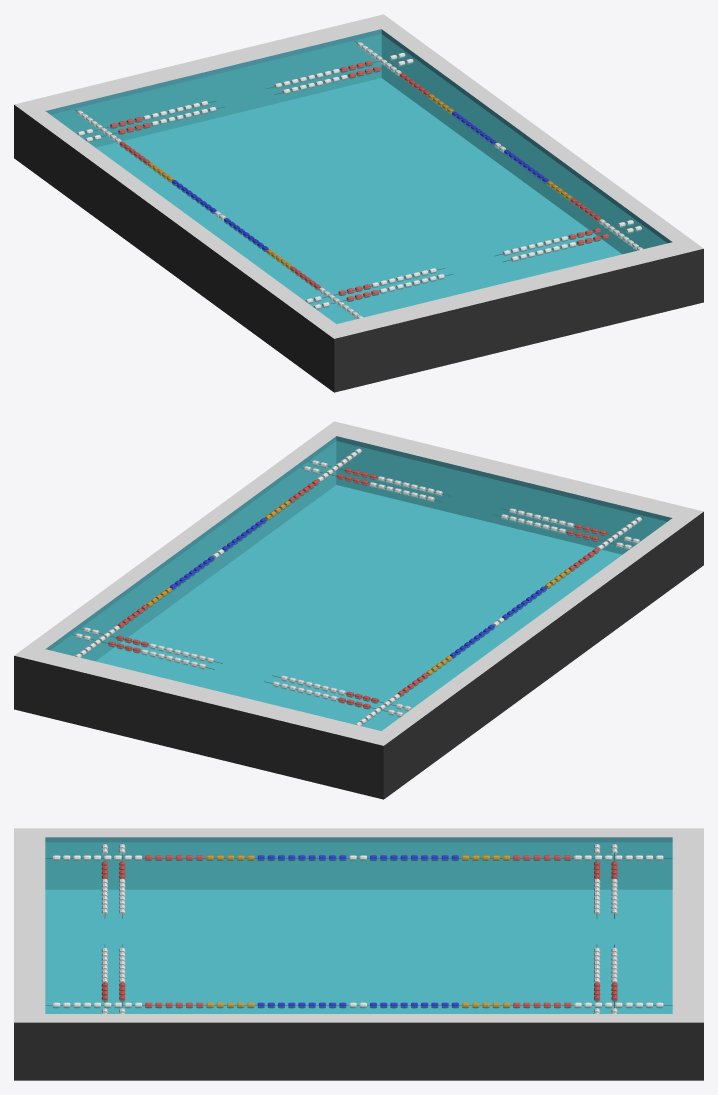
Rendered from Water Polo.fbx.
3 views of the same model, one above another, from view 1: azimuth 30°, elevation 25°; view 2: azimuth 150°, elevation 25°; view 3: azimuth 270°, elevation 25° (orthographic). The views are drawn at different scales.
Visible parts, largest first — view 1: Water Polo Pool, Water, Rope 1, Rope 2, Rope 5, Rope 3, Rope 4, Rope 6; view 2: Water Polo Pool, Water, Rope 2, Rope 1, Rope 5, Rope 6, Rope 3, Rope 4; view 3: Water Polo Pool, Water, Rope 2, Rope 1, Rope 4, Rope 5, Rope 3, Rope 6.
Boxes of the visible parts, x1,y1,x2,y2 form: Water Polo Pool: [14, 14, 703, 392]; Water: [51, 34, 666, 323]; Rope 1: [74, 109, 362, 318]; Rope 2: [354, 41, 642, 250]; Rope 5: [77, 53, 408, 136]; Rope 3: [313, 226, 644, 309]; Rope 4: [305, 220, 636, 303]; Rope 6: [85, 59, 415, 142]; Water Polo Pool: [14, 421, 703, 799]; Water: [51, 441, 666, 730]; Rope 2: [75, 448, 363, 657]; Rope 1: [355, 516, 643, 725]; Rope 5: [72, 633, 403, 717]; Rope 6: [81, 627, 411, 711]; Rope 3: [309, 460, 640, 544]; Rope 4: [301, 466, 631, 549]; Water Polo Pool: [14, 828, 703, 1080]; Water: [45, 842, 672, 1013]; Rope 2: [45, 1002, 672, 1008]; Rope 1: [45, 855, 672, 860]; Rope 4: [119, 843, 125, 1013]; Rope 5: [611, 843, 617, 1013]; Rope 3: [101, 843, 107, 1013]; Rope 6: [594, 843, 600, 1013].
Size of the model in its own units: 7920 by 1100 by 11880.
